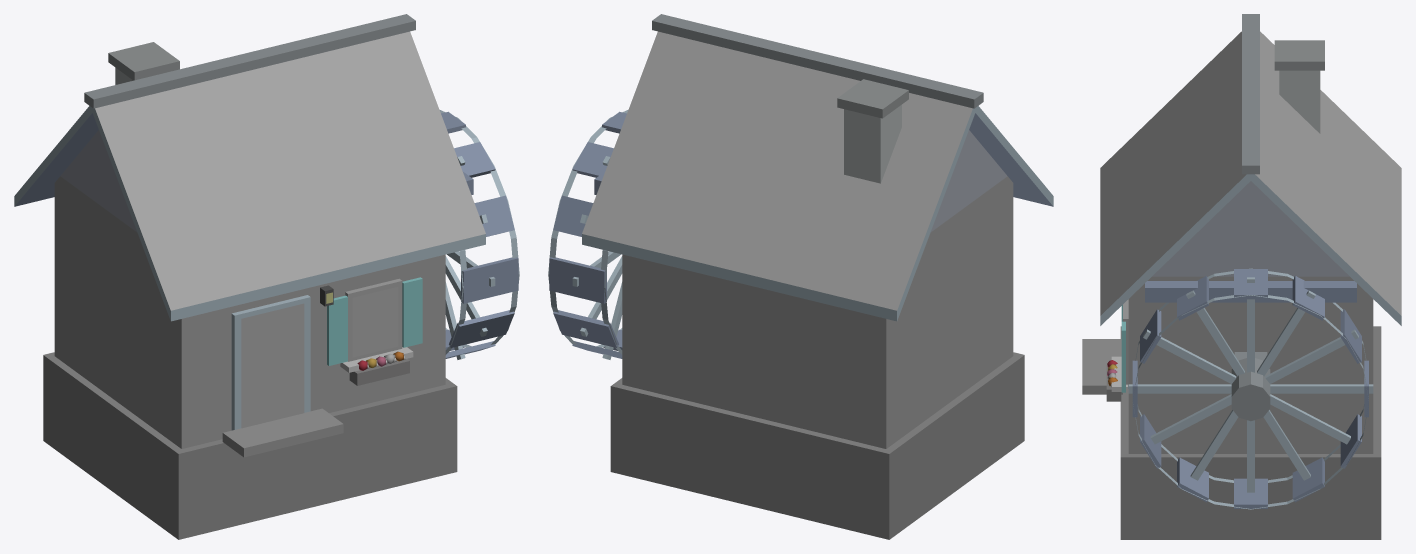
Rendered from watermill.glb.
3 renders of one model, left to right at view 1: azimuth 30°, elevation 25°; view 2: azimuth 150°, elevation 25°; view 3: azimuth 270°, elevation 25°, orthographic. The views are drawn at different scales.
Parts seen in each view (by area): view 1: watermill, Spin_Wheel; view 2: watermill, Spin_Wheel; view 3: watermill, Spin_Wheel.
Part boxes in pixels (x1,y1,x2,y2): watermill: (14, 14, 485, 539); Spin_Wheel: (439, 110, 519, 359); watermill: (582, 14, 1053, 539); Spin_Wheel: (548, 110, 628, 359); watermill: (1082, 14, 1401, 539); Spin_Wheel: (1128, 268, 1373, 509).
Bounding box in the file's own units: 5.05 × 5.22 × 3.92.
